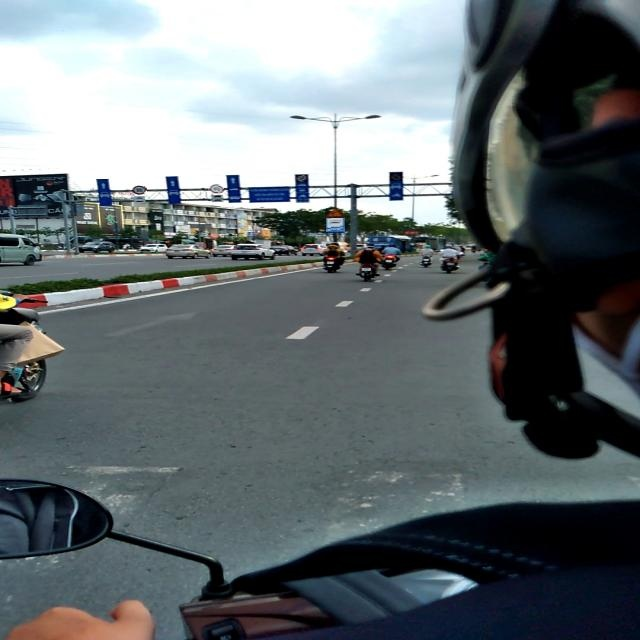bien_chi_dan: (326, 218, 345, 232), (325, 208, 343, 217), (208, 184, 224, 193), (132, 186, 147, 194), (390, 173, 402, 181), (296, 175, 308, 182)
